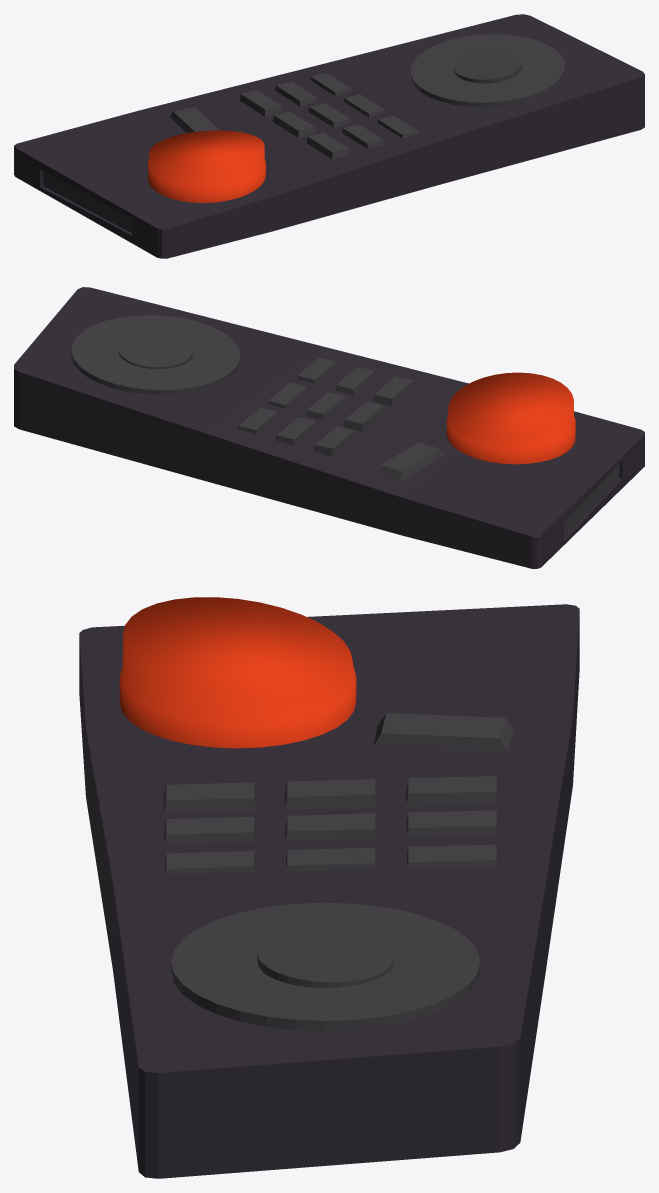
File: Remote.glb
3 renders of one model, top to bottom at view 1: azimuth 30°, elevation 25°; view 2: azimuth 150°, elevation 25°; view 3: azimuth 270°, elevation 25°, orthographic. The views are drawn at different scales.
Visible parts, largest first — view 1: Remote_Body, Remote_Button; view 2: Remote_Body, Remote_Button; view 3: Remote_Body, Remote_Button.
Part boxes in pixels (x1,y1,x2,y2): Remote_Body: (14, 14, 644, 258); Remote_Button: (148, 130, 265, 202); Remote_Body: (14, 287, 644, 568); Remote_Button: (446, 372, 575, 464); Remote_Body: (79, 604, 579, 1178); Remote_Button: (119, 597, 356, 748).
Bounding box in the file's own units: 0.4273 × 0.0538 × 0.176.
